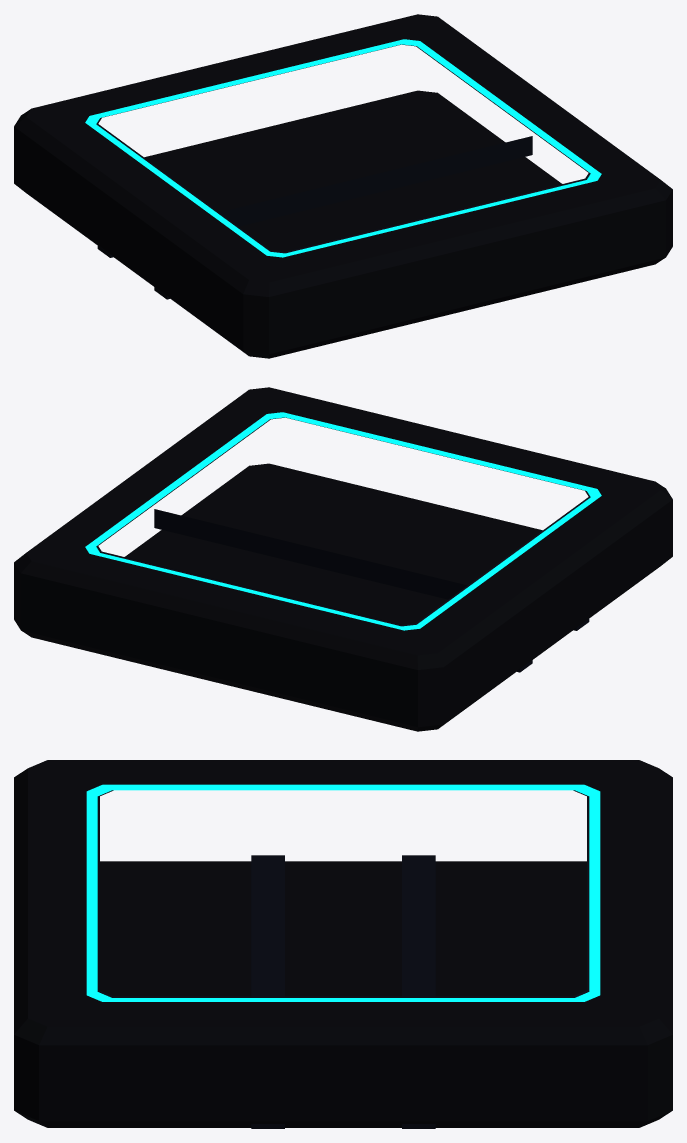
File: SM_Arena_TileVisual_01_VariantA.glb
3 renders of one model, top to bottom at view 1: azimuth 30°, elevation 25°; view 2: azimuth 150°, elevation 25°; view 3: azimuth 270°, elevation 25°, orthographic. The views are drawn at different scales.
Parts seen in each view (by area): view 1: COMP_Arena_TileBevelFrame_118, GEO_Tile_UndersideRibs, GEO_Tile_CyanCircuitInlay, GEO_Tile_CenterDeckPlate; view 2: COMP_Arena_TileBevelFrame_118, GEO_Tile_UndersideRibs, GEO_Tile_CyanCircuitInlay, GEO_Tile_CenterDeckPlate; view 3: COMP_Arena_TileBevelFrame_118, GEO_Tile_CyanCircuitInlay, GEO_Tile_UndersideRibs, GEO_Tile_CenterDeckPlate.
Boxes of the visible parts, bbox=[...] form: COMP_Arena_TileBevelFrame_118: bbox=[14, 14, 672, 358]; GEO_Tile_UndersideRibs: bbox=[97, 136, 584, 299]; GEO_Tile_CyanCircuitInlay: bbox=[85, 39, 601, 257]; GEO_Tile_CenterDeckPlate: bbox=[96, 44, 590, 253]; COMP_Arena_TileBevelFrame_118: bbox=[14, 387, 672, 731]; GEO_Tile_UndersideRibs: bbox=[102, 509, 589, 672]; GEO_Tile_CyanCircuitInlay: bbox=[85, 412, 601, 630]; GEO_Tile_CenterDeckPlate: bbox=[96, 417, 590, 626]; COMP_Arena_TileBevelFrame_118: bbox=[14, 760, 672, 1127]; GEO_Tile_CyanCircuitInlay: bbox=[86, 784, 600, 1001]; GEO_Tile_UndersideRibs: bbox=[251, 855, 435, 1128]; GEO_Tile_CenterDeckPlate: bbox=[97, 790, 589, 997].
Bounding box in the file's own units: 11.8 × 2 × 11.8.
Materials: 4 (4 with a texture image).
